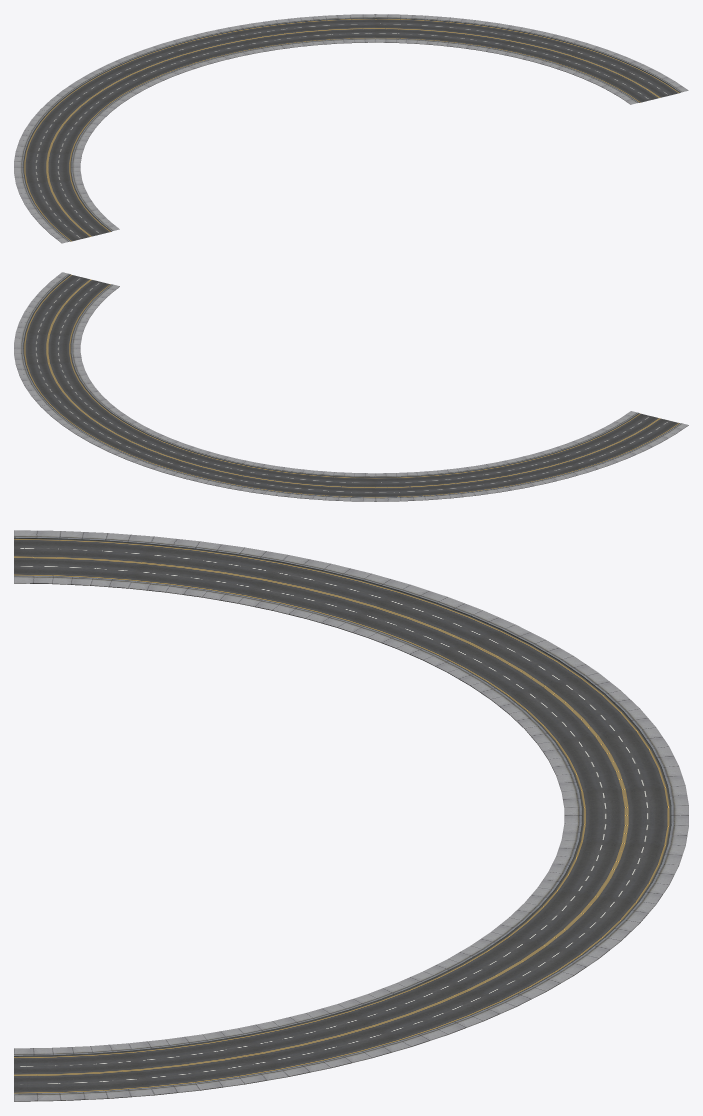
File: curve_long.glb
3 renders of one model, top to bottom at view 1: azimuth 30°, elevation 25°; view 2: azimuth 150°, elevation 25°; view 3: azimuth 270°, elevation 25°, orthographic. The views are drawn at different scales.
Parts seen in each view (by area): view 1: Road_4X_HalfCircle; view 2: Road_4X_HalfCircle; view 3: Road_4X_HalfCircle.
Part boxes in pixels (x1,y1,x2,y2): Road_4X_HalfCircle: (14, 14, 688, 243); Road_4X_HalfCircle: (14, 272, 688, 501); Road_4X_HalfCircle: (14, 530, 688, 1101).
Bounding box in the file's own units: 410 × 0.2045 × 205.
1 material, 1 textured.
